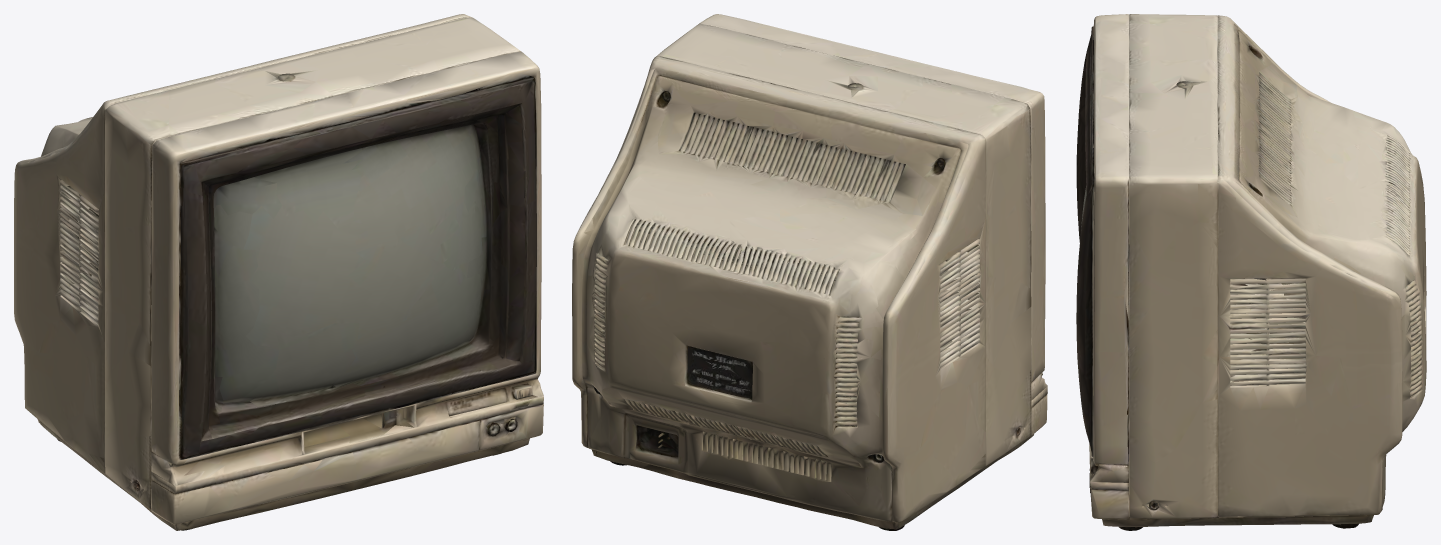
File: crt.glb
The picture shows the model from 3 angles, left to right: view 1: azimuth 30°, elevation 25°; view 2: azimuth 150°, elevation 25°; view 3: azimuth 270°, elevation 25°; orthographic projection. The views are drawn at different scales.
Visible parts, largest first — view 1: tripo_node_bc17e6d3-547b-4a77-985e-d9854c593b9f; view 2: tripo_node_bc17e6d3-547b-4a77-985e-d9854c593b9f; view 3: tripo_node_bc17e6d3-547b-4a77-985e-d9854c593b9f.
Boxes of the visible parts, x1,y1,x2,y2 form: tripo_node_bc17e6d3-547b-4a77-985e-d9854c593b9f: [14, 14, 543, 530]; tripo_node_bc17e6d3-547b-4a77-985e-d9854c593b9f: [572, 14, 1047, 530]; tripo_node_bc17e6d3-547b-4a77-985e-d9854c593b9f: [1076, 14, 1426, 530].
Bounding box in the file's own units: 0.9785 × 0.9818 × 0.8597.
1 material, 1 textured.
